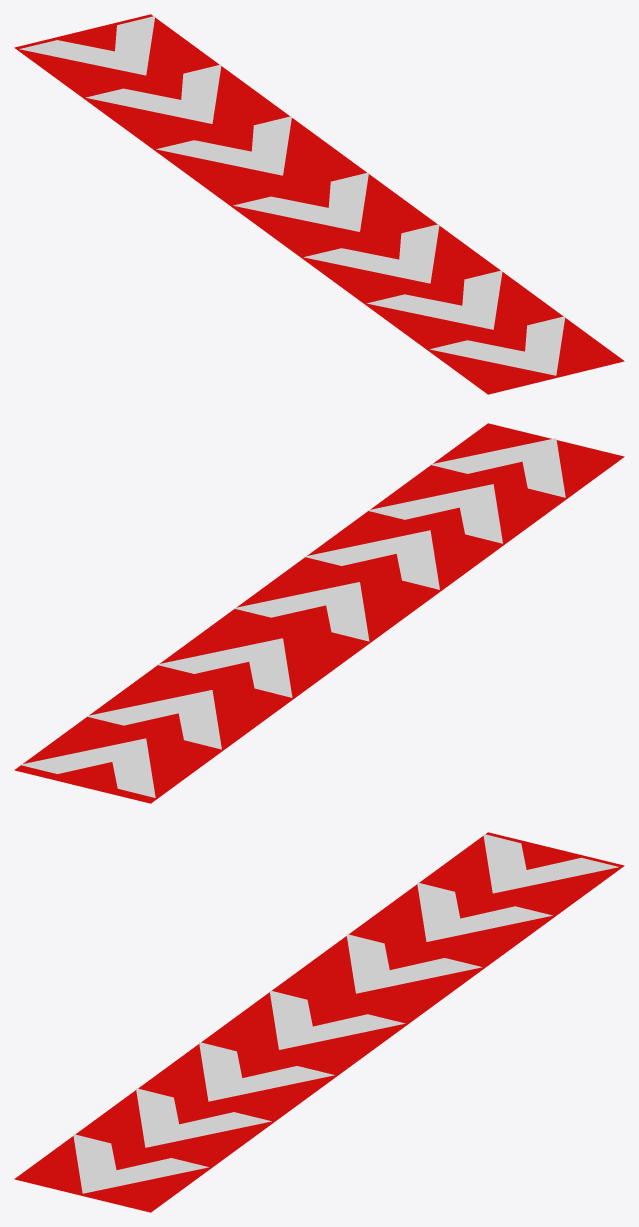
Rendered from accelarator.fbx.
The picture shows the model from 3 angles, top to bottom: view 1: azimuth 30°, elevation 25°; view 2: azimuth 150°, elevation 25°; view 3: azimuth 330°, elevation 25°; orthographic projection.
Visible parts, largest first — view 1: Plane; view 2: Plane; view 3: Plane.
Boxes of the visible parts, <box> form: Plane: <box>14,14,624,394</box>; Plane: <box>14,423,624,803</box>; Plane: <box>14,832,624,1212</box>.
Bounding box in the file's own units: 200 × 2.83 × 1200.
